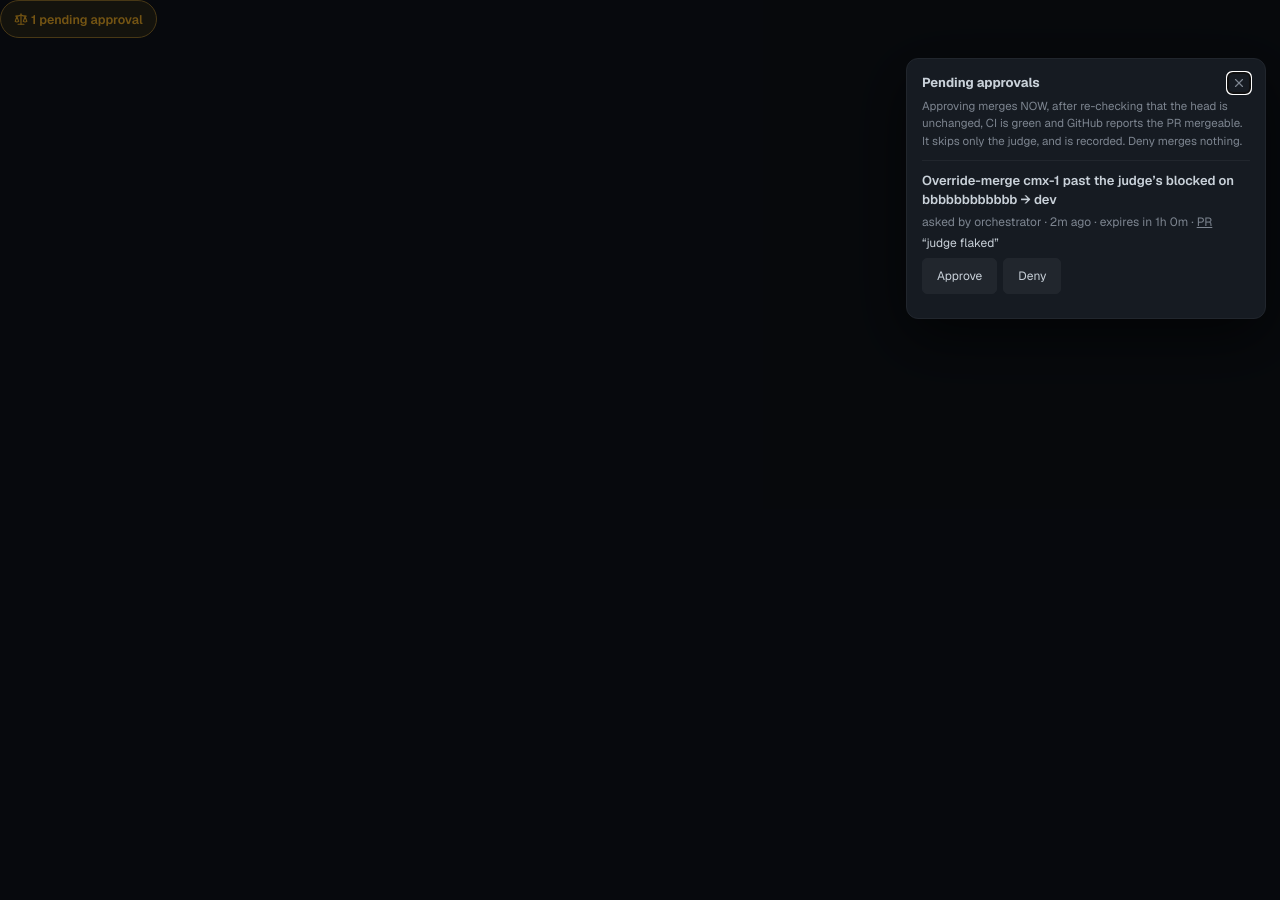
Test: a refusal {"ok":false} reads Could not deny the request
The width and height of the screenshot is (1280, 900).
Click the button "Deny" at point(1032, 276), box [1003,258,1061,294]
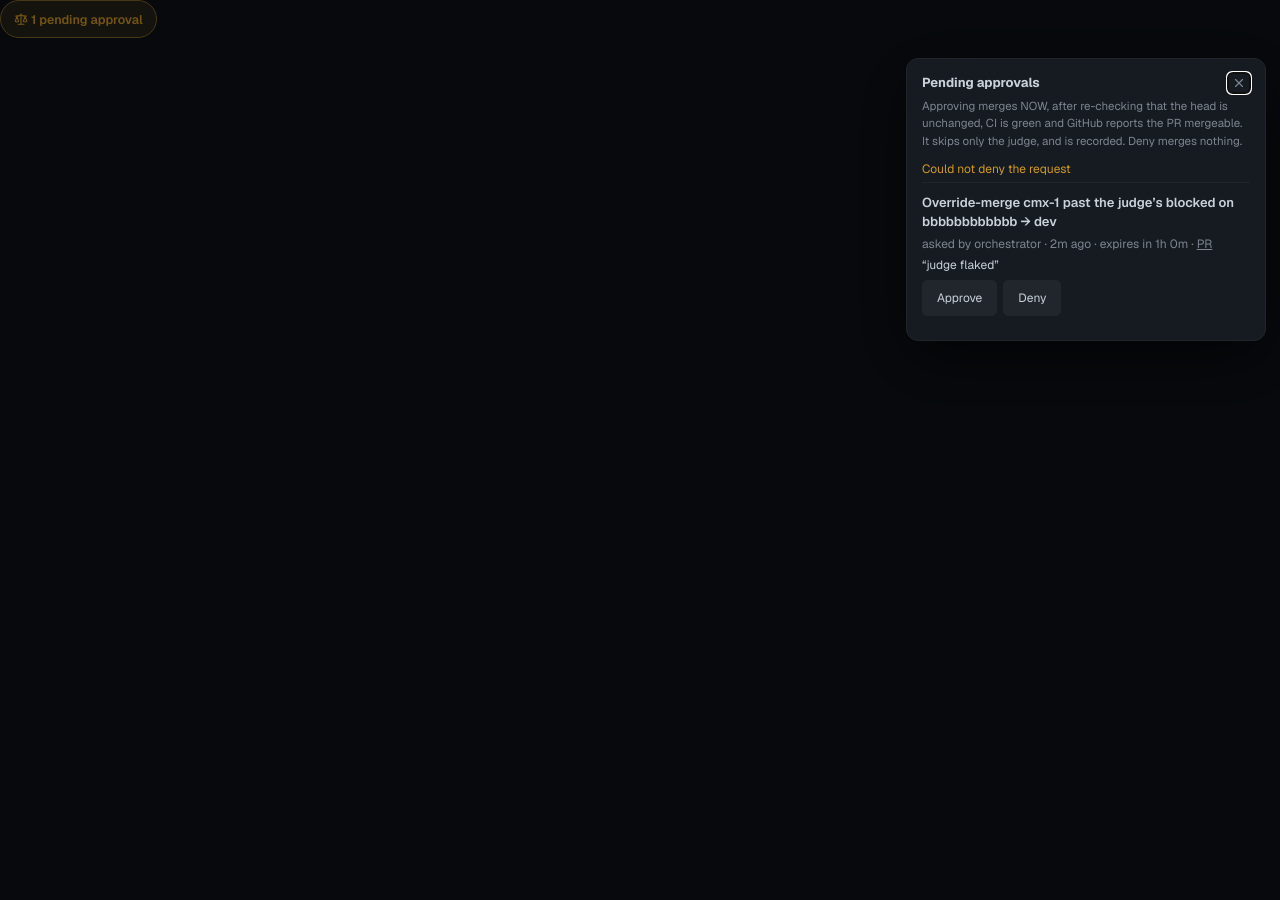
Result: the message "Could not deny the request" is shown at [922,161,1071,177]
